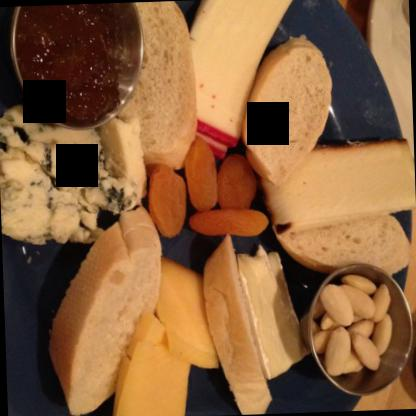bread: (43, 204, 165, 415), (110, 1, 200, 172), (242, 37, 334, 182), (202, 241, 260, 415), (272, 207, 410, 280)
parmesan cheese: (172, 0, 315, 148), (261, 141, 415, 232)
